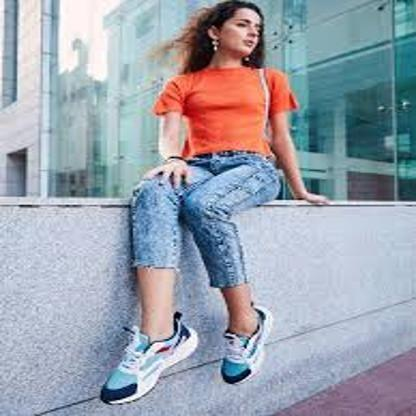not trash: (100, 310, 198, 409), (218, 304, 266, 386)
